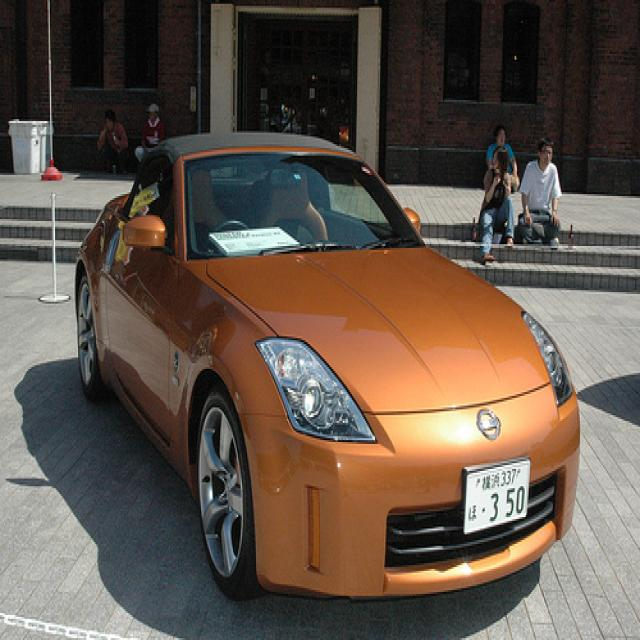light_vehicle: (72, 133, 580, 607)
